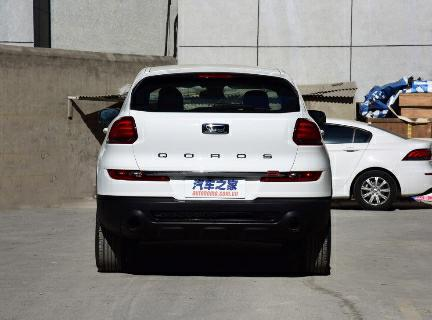观致-5: (86, 60, 338, 280)
